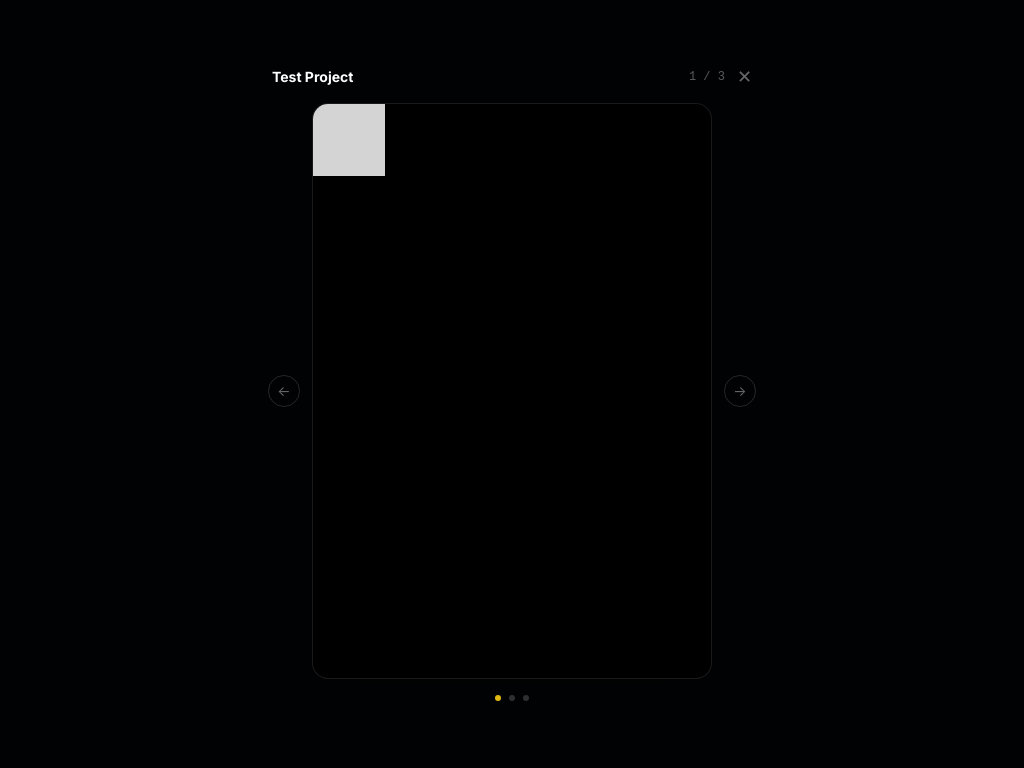
Test case: ScreenshotModal › клик по точке переходит к нужному скриншоту
Click the button named "Скриншот 3" at (526, 698), box x1=523 y1=695 x2=529 y2=701
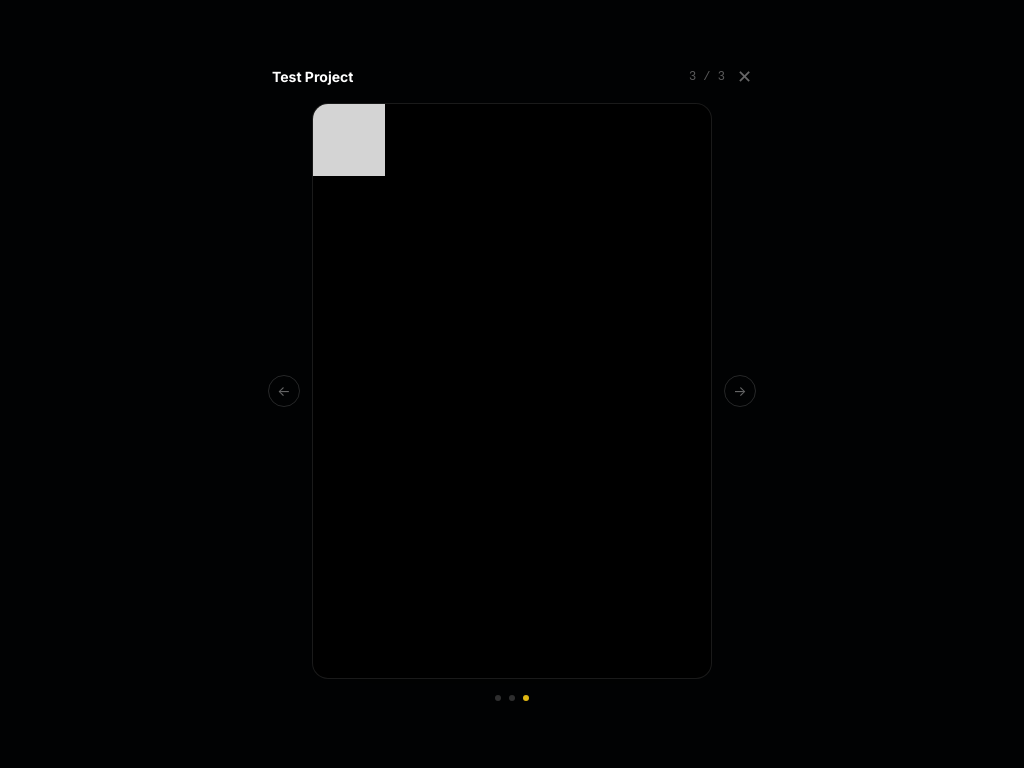
Result: the text "3 / 3" is shown at x1=689 y1=69 x2=725 y2=85
